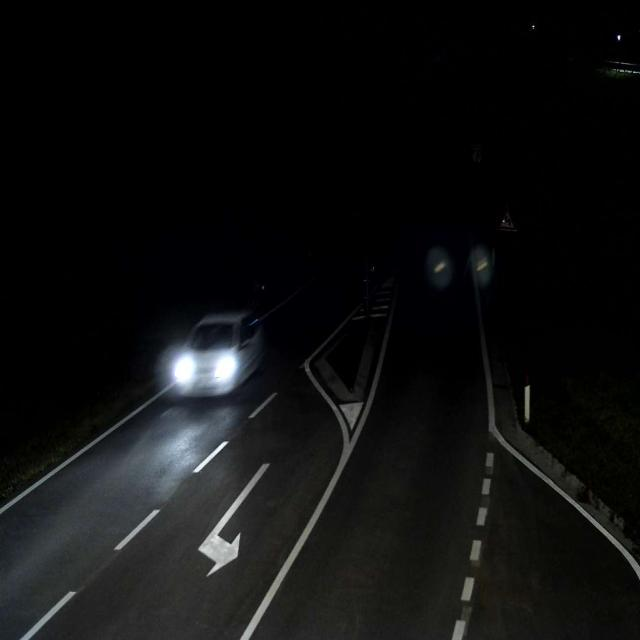car: (169, 308, 267, 399)
